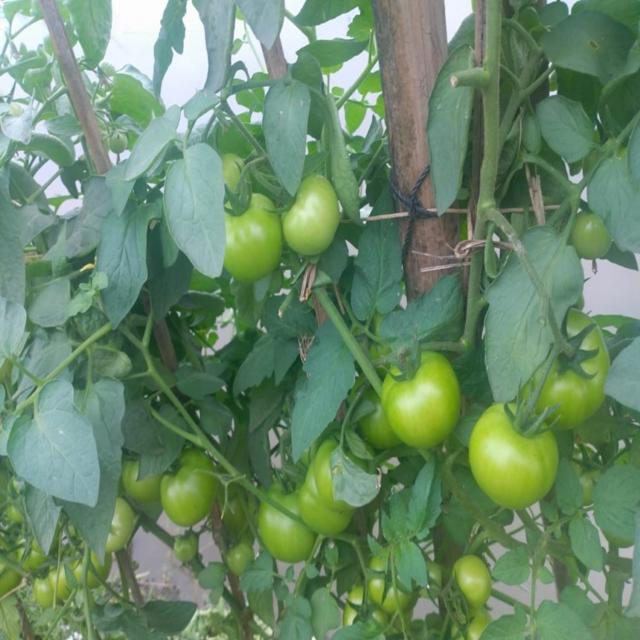tomato: (470, 396, 564, 508), (538, 305, 610, 437), (385, 346, 464, 453), (220, 185, 285, 282), (297, 440, 357, 539), (281, 175, 347, 260), (162, 451, 222, 528), (262, 481, 315, 561), (361, 552, 413, 615), (357, 388, 398, 461), (570, 212, 609, 272), (119, 455, 161, 507), (72, 546, 117, 594), (107, 498, 143, 552), (453, 559, 490, 604), (450, 600, 490, 640), (7, 524, 38, 575), (45, 559, 77, 606), (168, 531, 203, 568), (223, 548, 251, 580), (28, 576, 56, 604)
